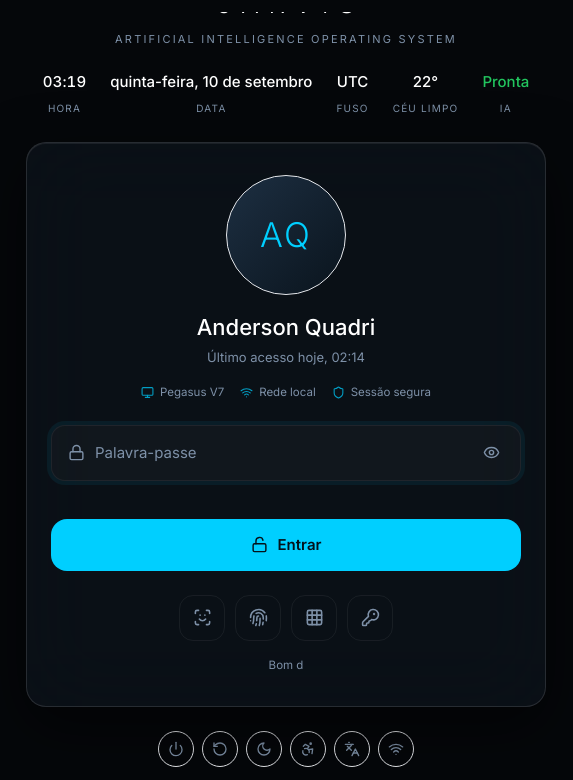
Test case: LoginScreen › chave física › sem chave registada, diz isso sem tentar cerimónia nenhuma
This screenshot has width=573, height=780.
Click the button named "Chave física".
click(370, 618)  # box [347,595,393,641]
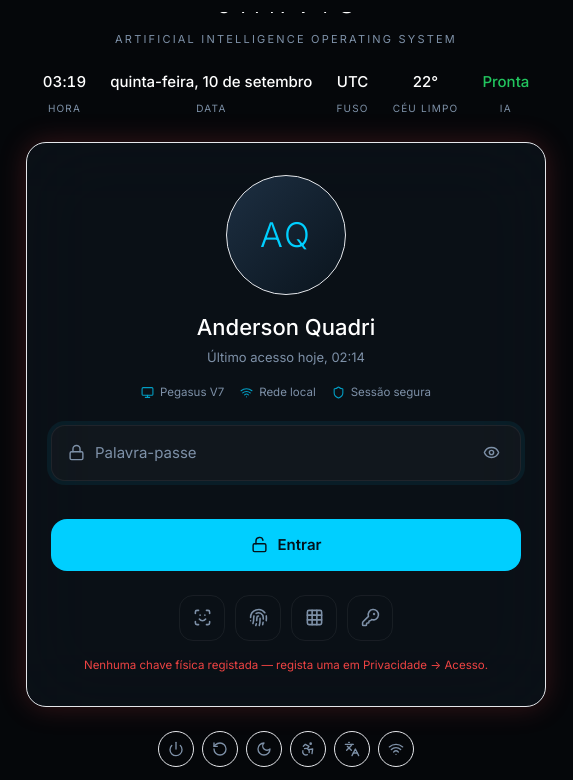
Result: the text "Nenhuma chave física registada — regista uma em Privacidade" is shown at [84,658,488,672]
